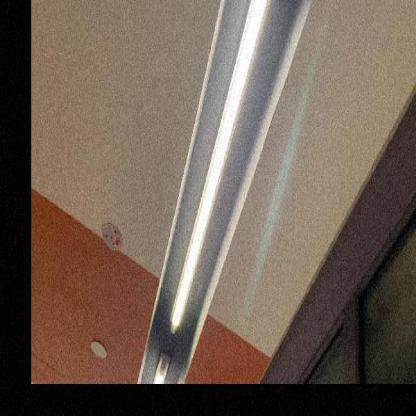light_on: (124, 0, 278, 348), (150, 358, 176, 384)
